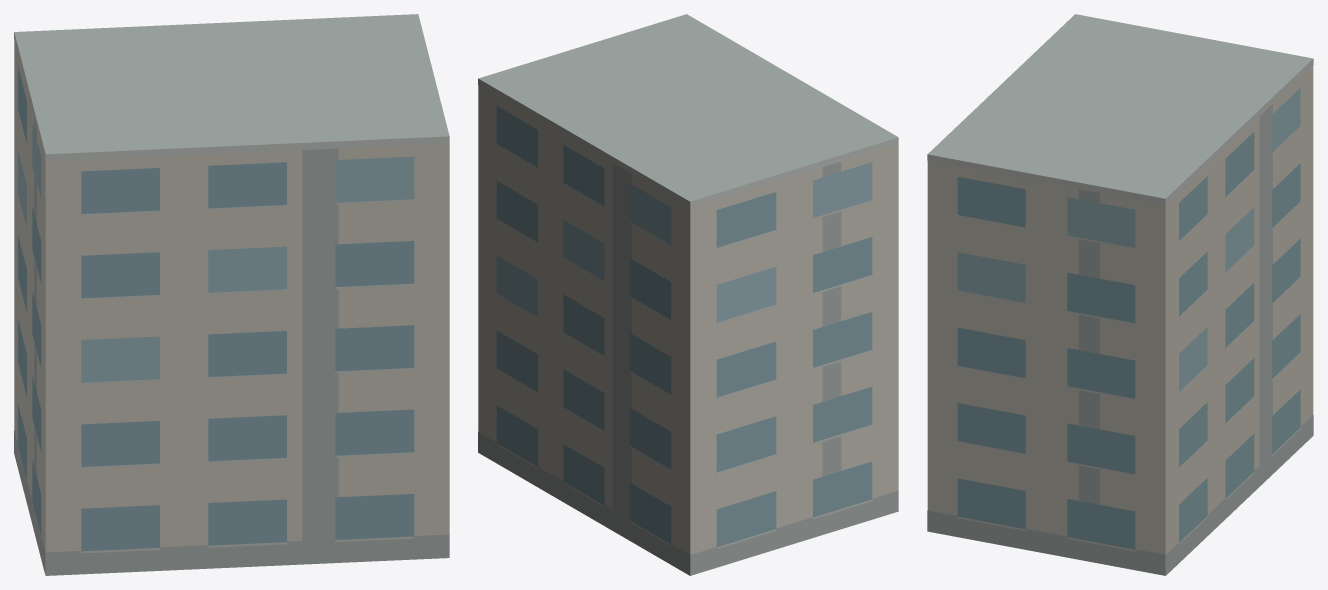
Rendered from survey-upis-32551532.glb.
The picture shows the model from 3 angles, left to right: view 1: azimuth 30°, elevation 25°; view 2: azimuth 150°, elevation 25°; view 3: azimuth 270°, elevation 25°; orthographic projection. The views are drawn at different scales.
Parts seen in each view (by area): view 1: survey-upis-32551532.tmp; view 2: survey-upis-32551532.tmp; view 3: survey-upis-32551532.tmp.
Boxes of the visible parts, x1,y1,x2,y2 form: survey-upis-32551532.tmp: [14, 14, 449, 575]; survey-upis-32551532.tmp: [478, 14, 898, 575]; survey-upis-32551532.tmp: [927, 14, 1313, 575].
Size of the model in its own units: 14.98 by 14.25 by 13.23.
